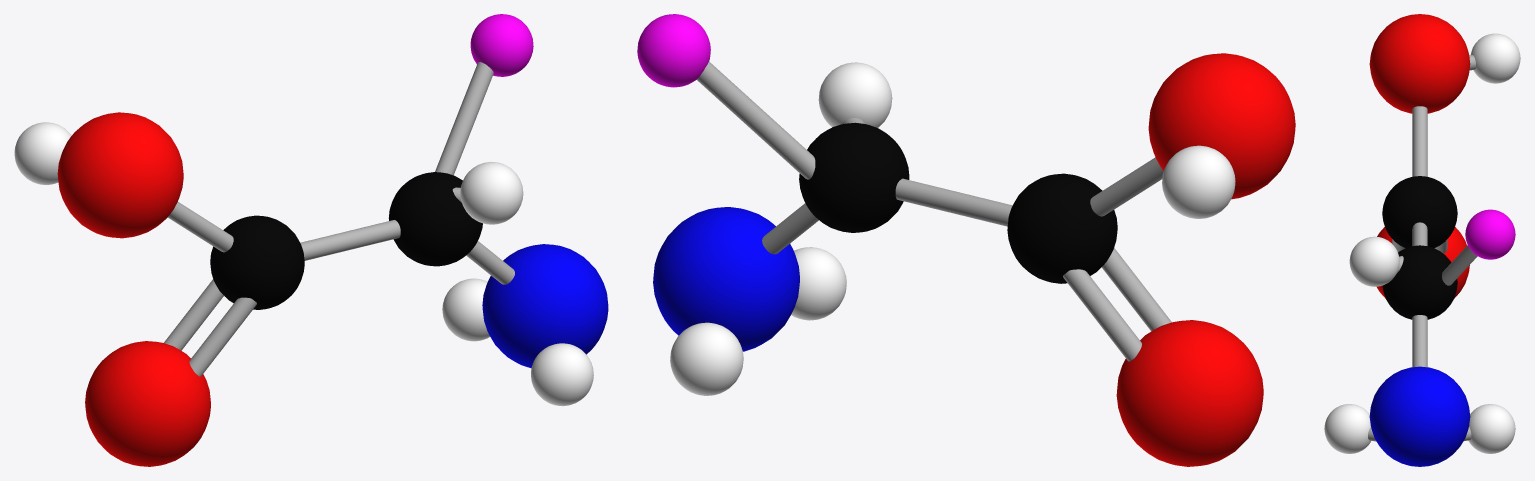
File: aminoAcid.fbx
3 views of the same model, side by side, from view 1: azimuth 30°, elevation 25°; view 2: azimuth 150°, elevation 25°; view 3: azimuth 270°, elevation 25° (orthographic). The views are drawn at different scales.
Parts seen in each view (by area): view 1: unityexport; view 2: unityexport; view 3: unityexport.
Part boxes in pixels (box(x1,y1,x2,y2)): unityexport: box(14, 14, 608, 466); unityexport: box(637, 14, 1295, 466); unityexport: box(1324, 14, 1520, 466).
Size of the model in its own units: 210 by 131 by 83.86.
